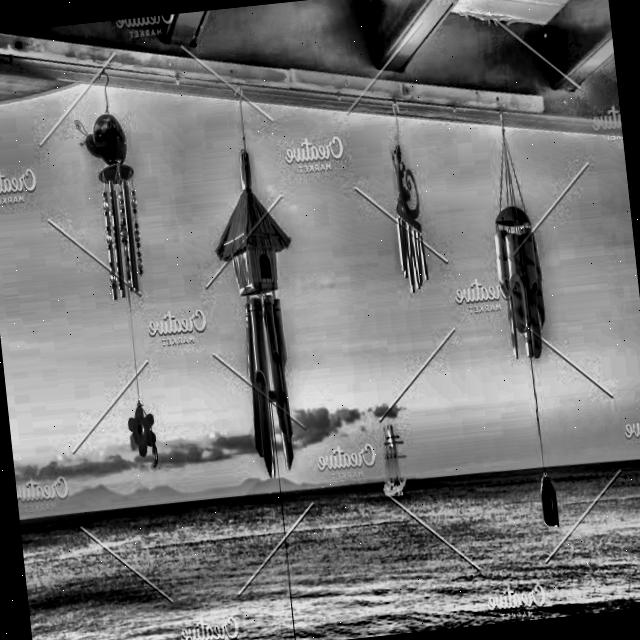hanging object: (460, 98, 590, 550), (195, 56, 320, 490), (62, 46, 162, 322), (358, 71, 446, 302)
